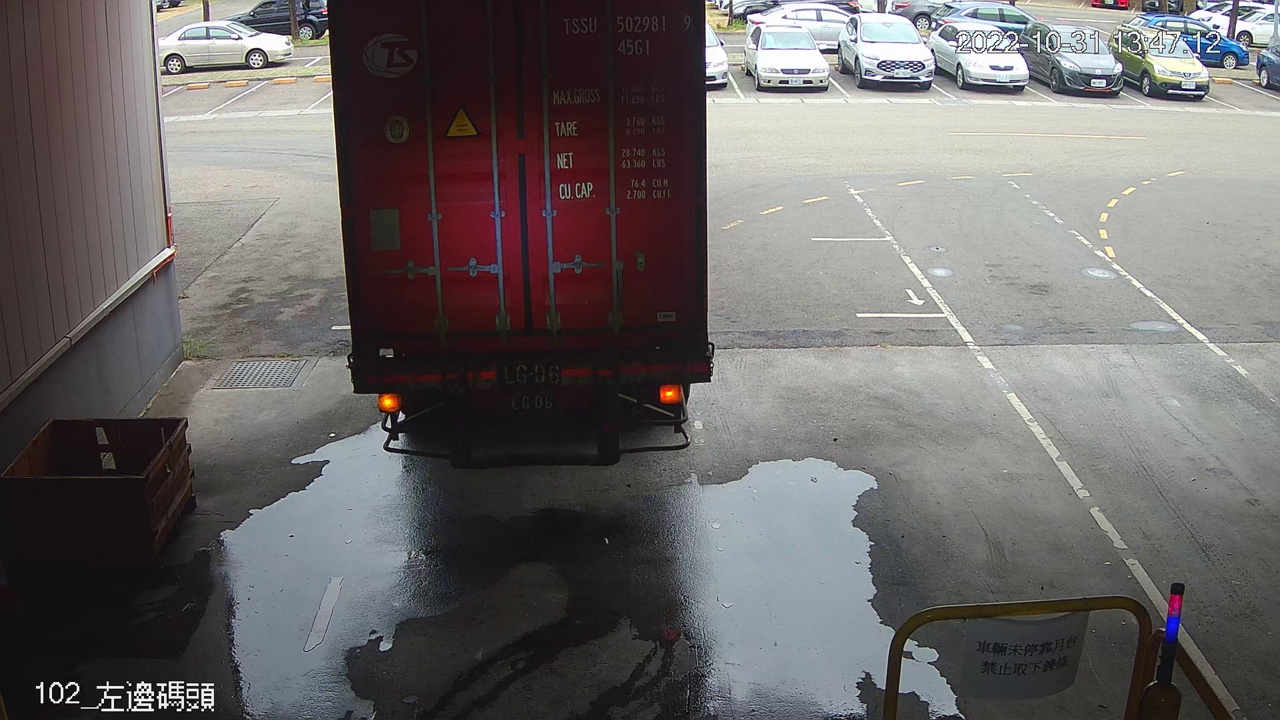container: (554, 8, 699, 61)
